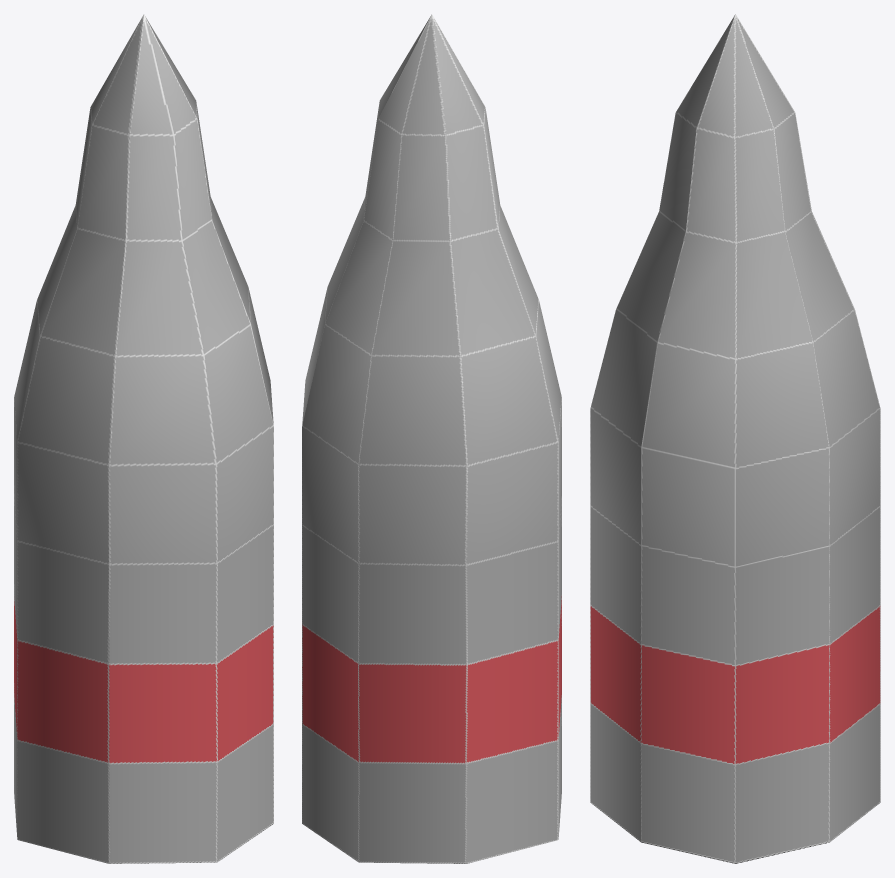
Rendered from tama3.FBX.
The picture shows the model from 3 angles, left to right: view 1: azimuth 30°, elevation 25°; view 2: azimuth 150°, elevation 25°; view 3: azimuth 270°, elevation 25°; orthographic projection.
Visible parts, largest first — view 1: Box001; view 2: Box001; view 3: Box001.
Part boxes in pixels (x1,y1,x2,y2): Box001: (14,14,273,863); Box001: (302,14,561,863); Box001: (590,14,880,863).
Size of the model in its own units: 5 by 15 by 5.
Materials: 1 (1 with a texture image).
